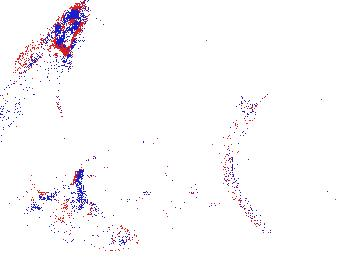X-ray fish: (46, 213, 138, 252), (29, 181, 88, 230)
glassfish: (222, 96, 296, 249), (1, 7, 88, 118)
siberian prawn: (74, 133, 218, 177), (112, 181, 216, 233)
